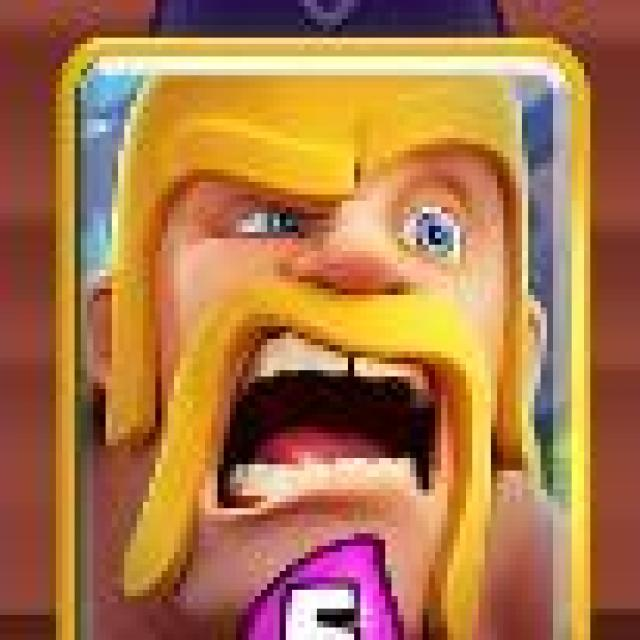Barbarians: (51, 34, 594, 640)
